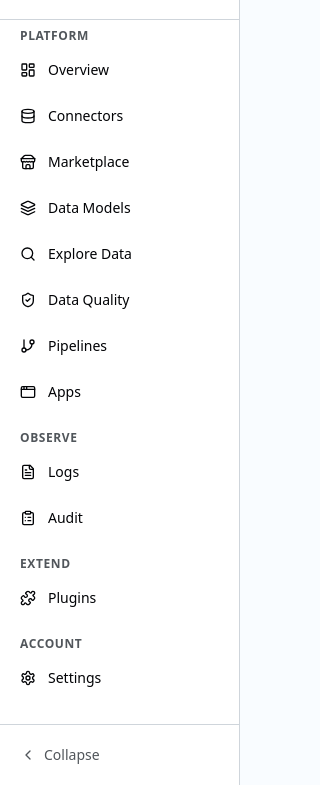
it: Sidebar › collapse toggle › changes the toggle button label to 'Expand sidebar' after collapsing
(page scrolled)
Click the button with aria-label "collapse sidebar": (120, 755) [8,733,231,777]
(page scrolled)
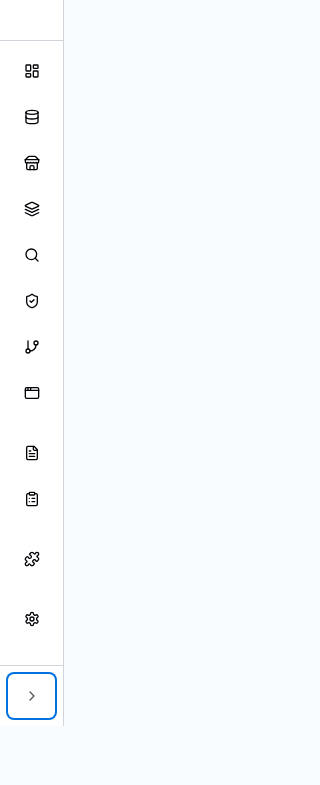
expect the button named "expand sidebar" is shown: met, box [8,674,55,718]
